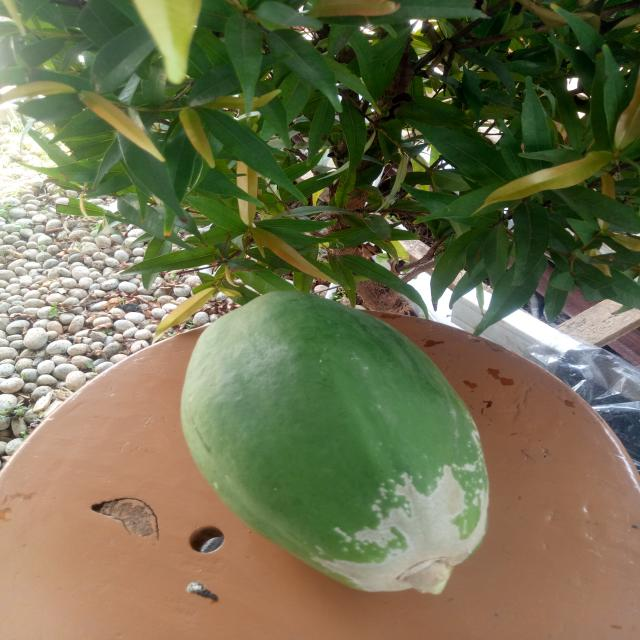Pepaya unrippen: (173, 276, 495, 602)
